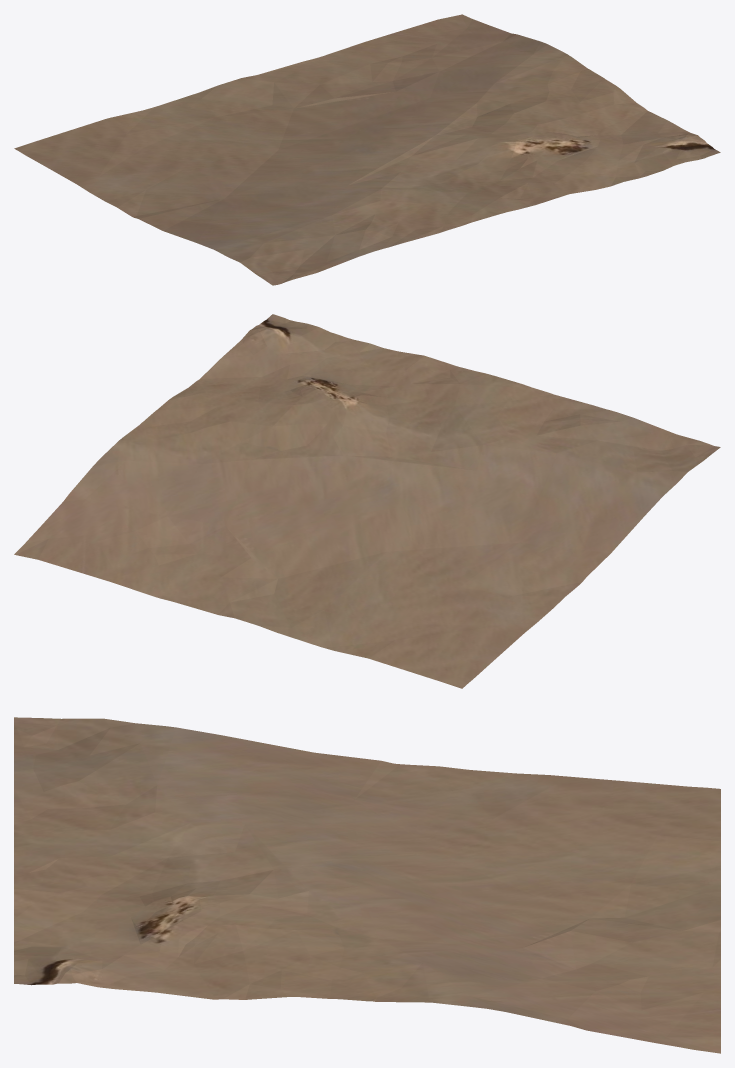
The picture shows the model from 3 angles, top to bottom: view 1: azimuth 30°, elevation 25°; view 2: azimuth 150°, elevation 25°; view 3: azimuth 270°, elevation 25°; orthographic projection. The views are drawn at different scales.
Size of the model in its own units: 2.09 by 0.3545 by 2.09.
3 materials, 3 textured.
